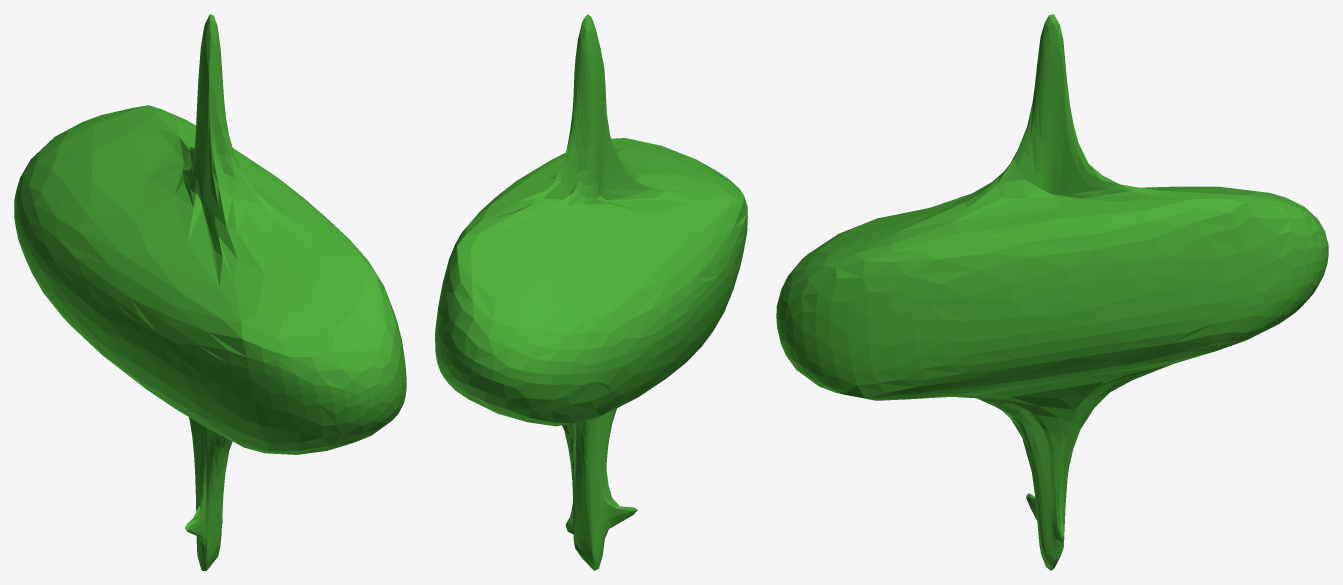
3 renders of one model, left to right at view 1: azimuth 30°, elevation 25°; view 2: azimuth 150°, elevation 25°; view 3: azimuth 270°, elevation 25°, orthographic.
Parts seen in each view (by area): view 1: 448_Cube.1817; view 2: 448_Cube.1817; view 3: 448_Cube.1817.
Part boxes in pixels (x1,y1,x2,y2): 448_Cube.1817: (14,14,406,570); 448_Cube.1817: (435,14,747,570); 448_Cube.1817: (776,14,1328,570).
Bounding box in the file's own units: 4.52 × 11.68 × 10.45.
